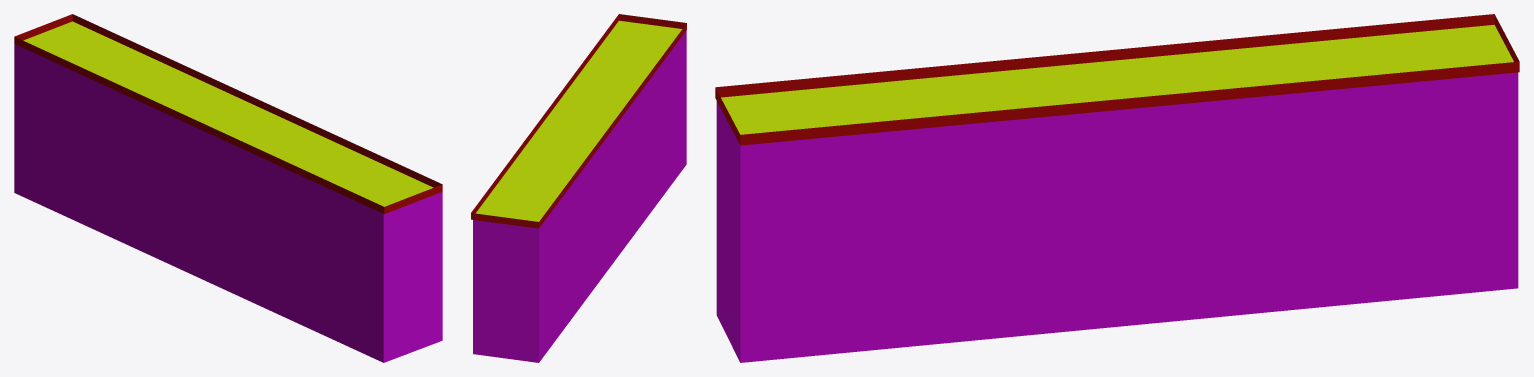
Rendered from sjs_57.glb.
3 renders of one model, left to right at view 1: azimuth 30°, elevation 25°; view 2: azimuth 150°, elevation 25°; view 3: azimuth 270°, elevation 25°, orthographic. The views are drawn at different scales.
Visible parts, largest first — view 1: sjs_57; view 2: sjs_57; view 3: sjs_57.
Boxes of the visible parts, x1,y1,x2,y2 form: sjs_57: (14,14,442,362); sjs_57: (471,14,686,362); sjs_57: (715,14,1519,362).
Size of the model in its own units: 8.41 by 7.4 by 23.66.
